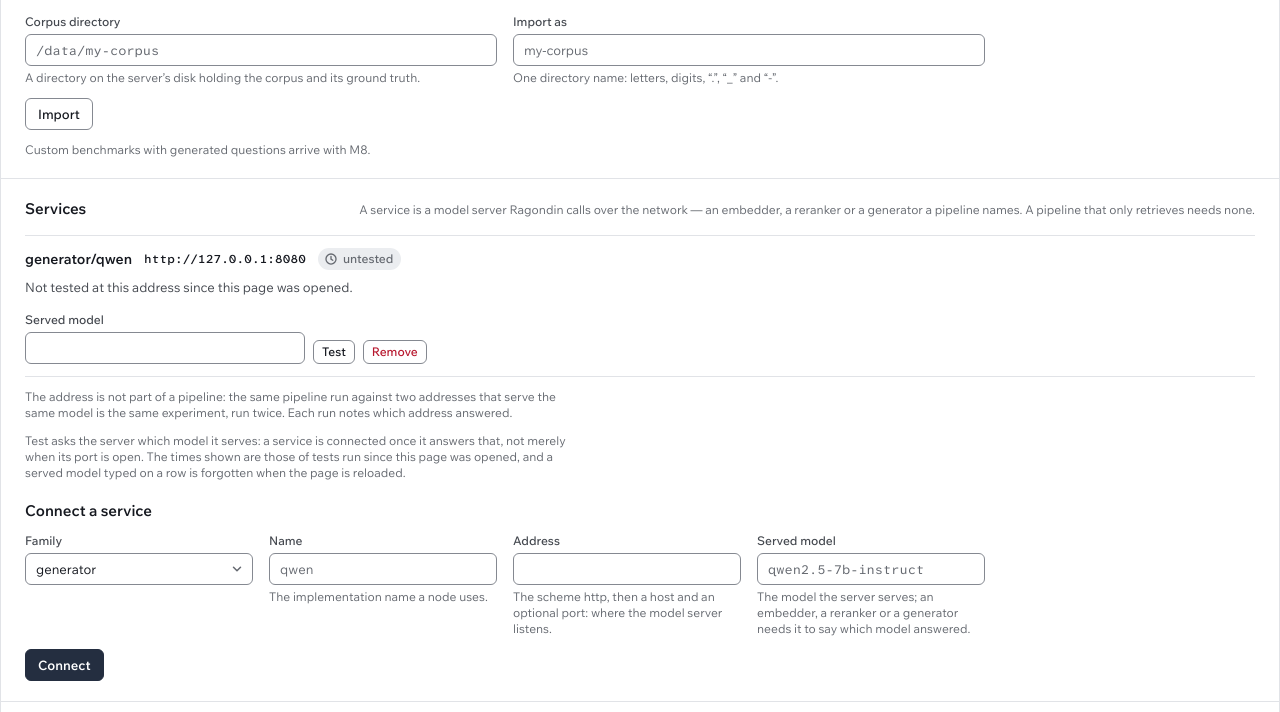
the services › the undo window › writes nothing when the listing read before the delete fails, brings the row back and says why
(page scrolled)
Click the button with aria-label "Remove generator/qwen".
click(395, 352)  # box [363,340,427,364]
Wait 10000 ms
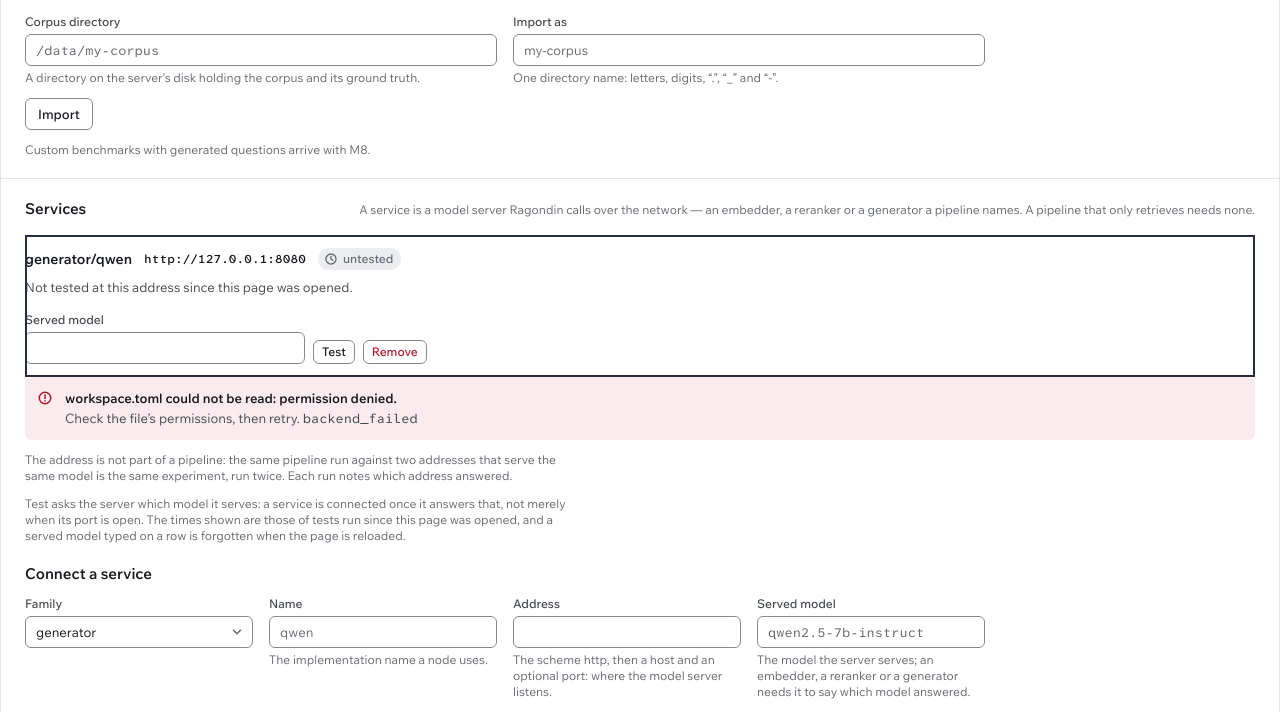
Expected: the list item "generator/qwen" is shown, [25,235,1255,377]
Result: the message shows "workspace.toml could not be read: permission denied." at [65,390,397,406]
Result: the message shows "Check the file’s permissions, then retry." at [65,410,300,426]
